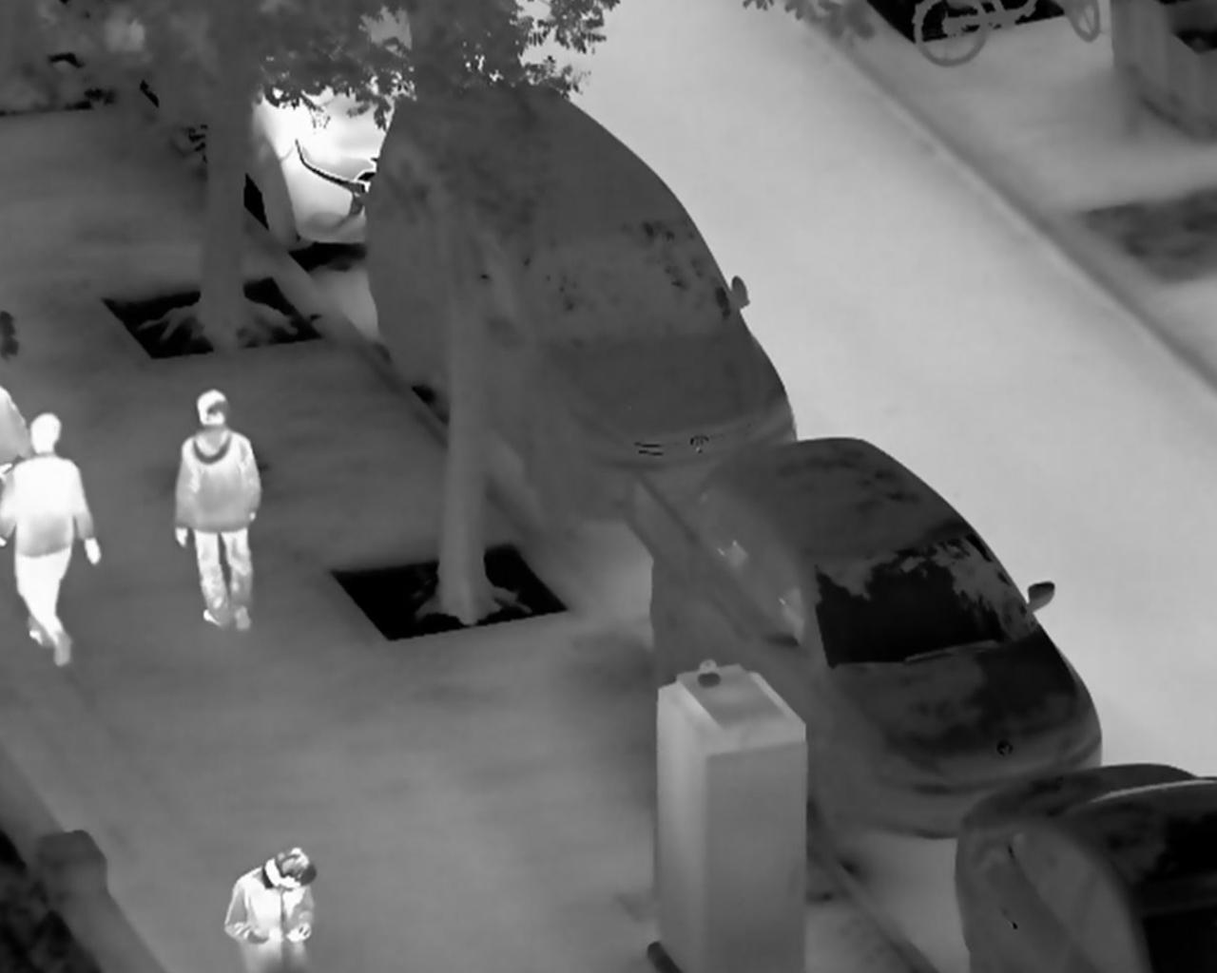person: (173, 389, 264, 634), (221, 844, 319, 973)
